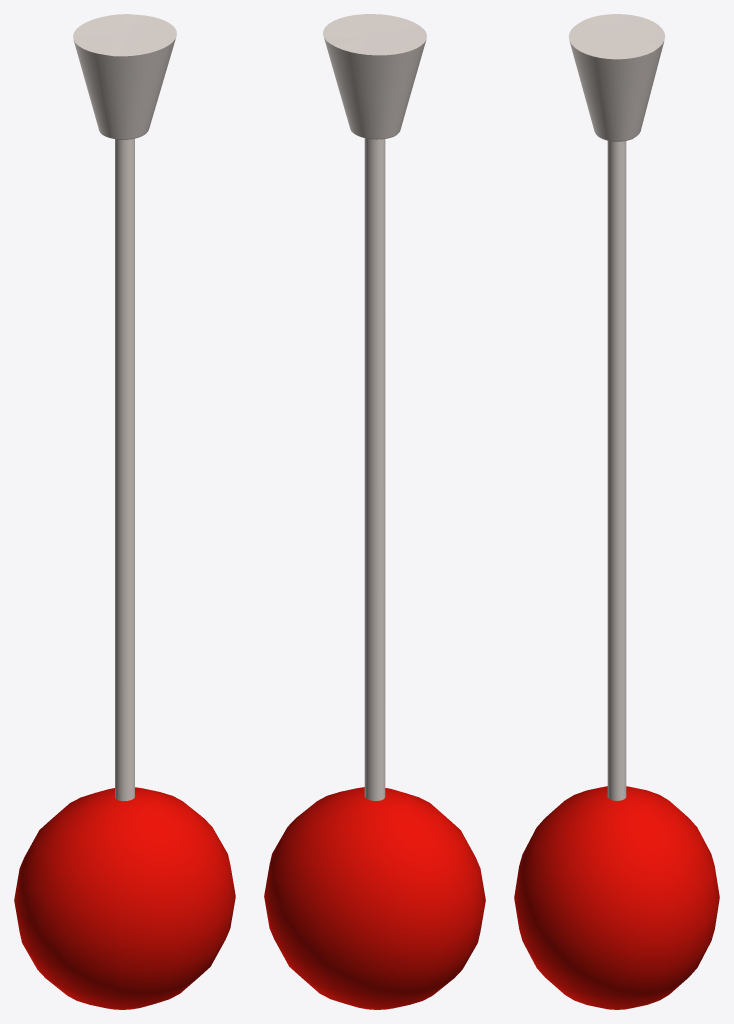
File: Stem.glb
3 views of the same model, side by side, from view 1: azimuth 30°, elevation 25°; view 2: azimuth 150°, elevation 25°; view 3: azimuth 270°, elevation 25° (orthographic).
Visible parts, largest first — view 1: MET-59_3D-Model.17363, MET-59_3D-Model.17659; view 2: MET-59_3D-Model.17363, MET-59_3D-Model.17659; view 3: MET-59_3D-Model.17363, MET-59_3D-Model.17659.
Part boxes in pixels (x1=…): MET-59_3D-Model.17363: x1=14, y1=787, x2=235, y2=1009; MET-59_3D-Model.17659: x1=73, y1=14, x2=176, y2=801; MET-59_3D-Model.17363: x1=264, y1=787, x2=485, y2=1009; MET-59_3D-Model.17659: x1=323, y1=14, x2=426, y2=800; MET-59_3D-Model.17363: x1=514, y1=786, x2=719, y2=1009; MET-59_3D-Model.17659: x1=568, y1=14, x2=665, y2=800.
Bounding box in the file's own units: 0.4004 × 1.88 × 0.364.
